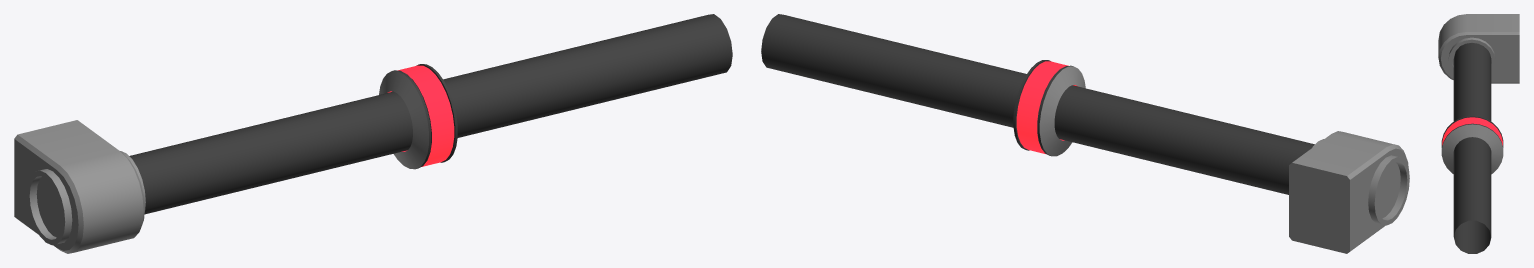
The model's file is Red_Cable_B_2.fbx.
The picture shows the model from 3 angles, left to right: view 1: azimuth 30°, elevation 25°; view 2: azimuth 150°, elevation 25°; view 3: azimuth 270°, elevation 25°; orthographic projection. The views are drawn at different scales.
Parts seen in each view (by area): view 1: Red_Cable_B_2.001; view 2: Red_Cable_B_2.001; view 3: Red_Cable_B_2.001.
Part boxes in pixels (<box>): Red_Cable_B_2.001: <box>14,14,732,253</box>; Red_Cable_B_2.001: <box>761,14,1409,253</box>; Red_Cable_B_2.001: <box>1438,14,1519,253</box>.
Size of the model in its own units: 2.02 by 0.263 by 0.3456.
